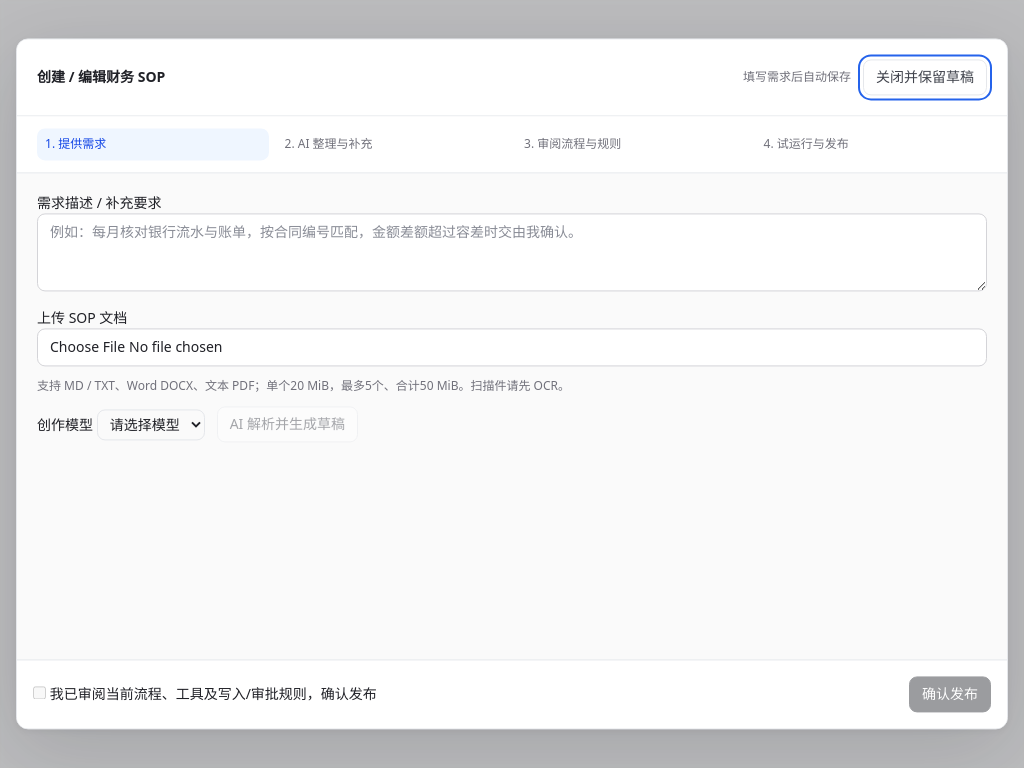
Test: a failed close-save keeps the SOP editor and user input
In the text box labelled "需求描述": [512, 252] box x1=37 y1=213 x2=987 y2=291, type "不能丢失的 SOP 需求"
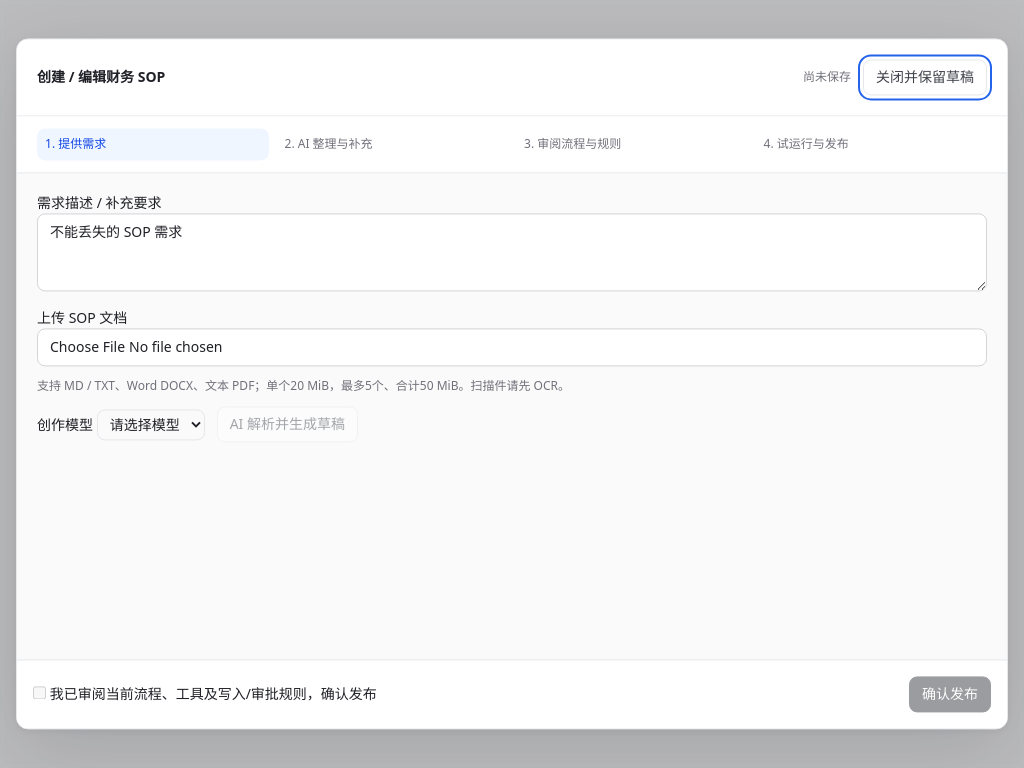
Click the button "关闭并保留草稿": [925, 77] box x1=863 y1=59 x2=987 y2=95
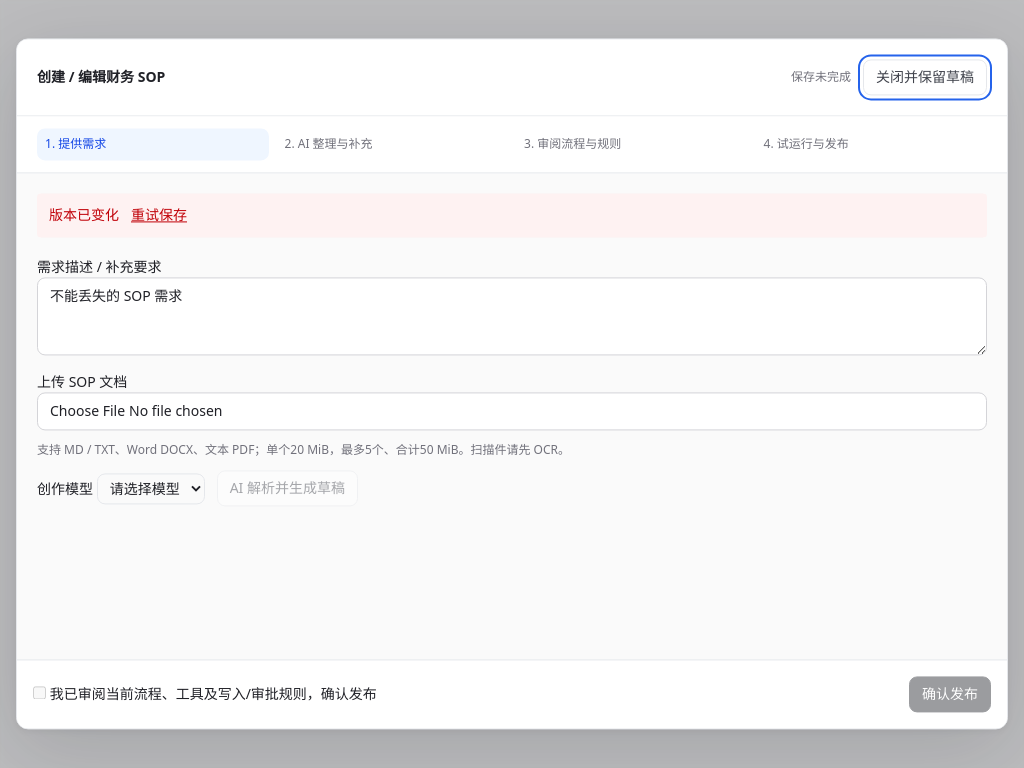
Expected: the message "版本已变化 重试保存" is shown, x1=37 y1=193 x2=987 y2=237
